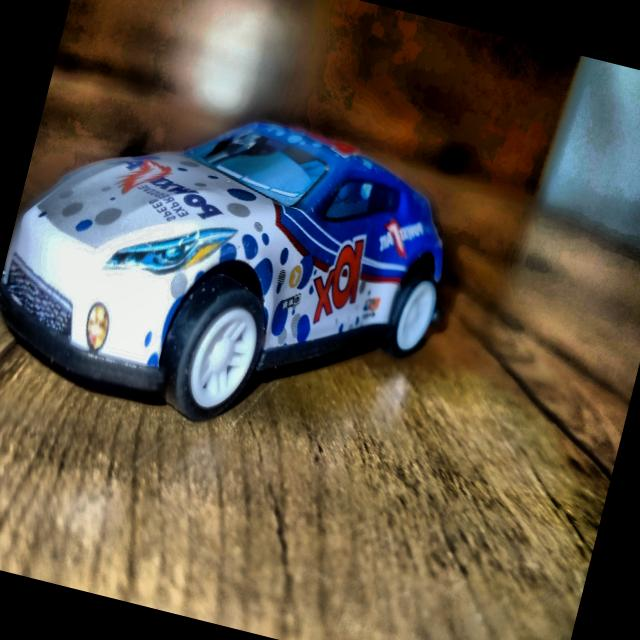Car: (0, 69, 468, 469)
